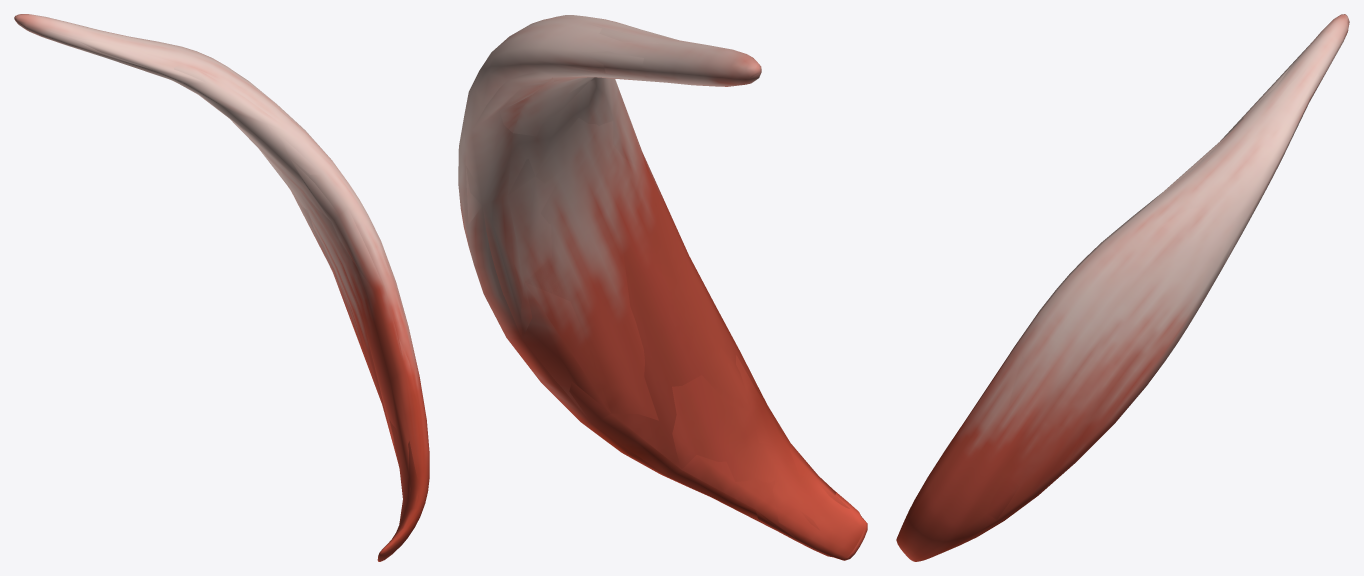
The model's file is L Deltoideus.fbx.
3 views of the same model, side by side, from view 1: azimuth 30°, elevation 25°; view 2: azimuth 150°, elevation 25°; view 3: azimuth 270°, elevation 25° (orthographic). The views are drawn at different scales.
Parts seen in each view (by area): view 1: L Deltoideus, L Deltoideus low; view 2: L Deltoideus, L Deltoideus low; view 3: L Deltoideus, L Deltoideus low.
Boxes of the visible parts, x1=… form: L Deltoideus: x1=14, y1=14, x2=429, y2=561; L Deltoideus low: x1=47, y1=30, x2=428, y2=553; L Deltoideus: x1=458, y1=15, x2=867, y2=560; L Deltoideus low: x1=464, y1=23, x2=865, y2=538; L Deltoideus: x1=896, y1=14, x2=1349, y2=561; L Deltoideus low: x1=921, y1=43, x2=1341, y2=560.
Size of the model in its own units: 11.92 by 20.43 by 18.11.
